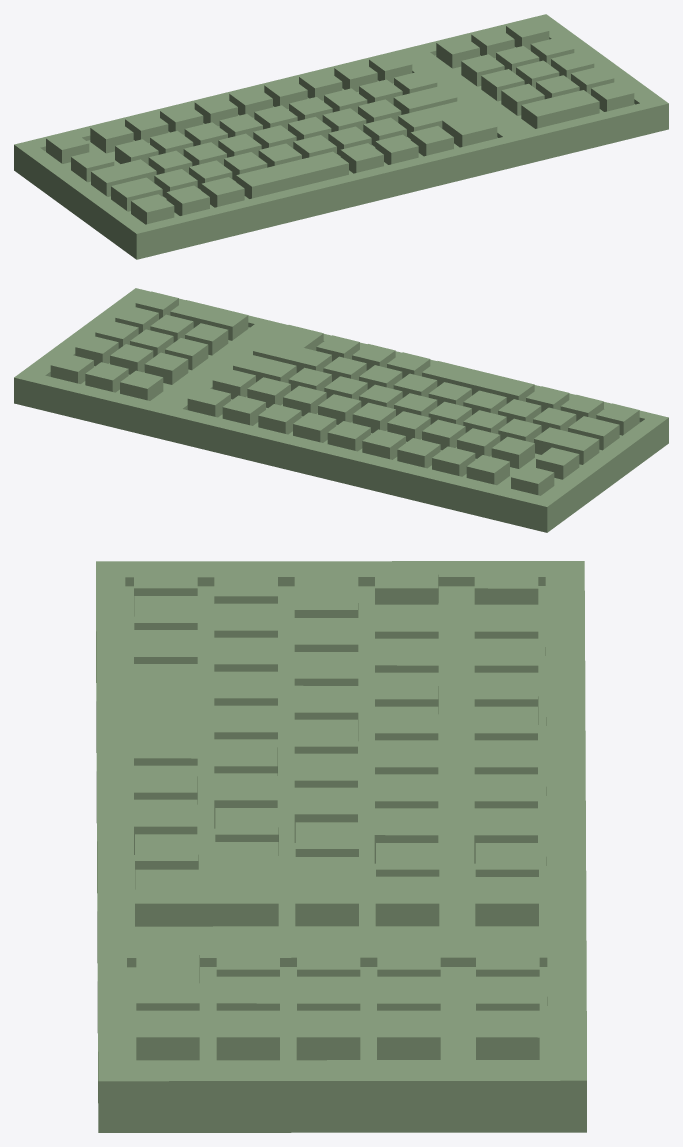
The model's file is Keyboard.fbx.
3 renders of one model, top to bottom at view 1: azimuth 30°, elevation 25°; view 2: azimuth 150°, elevation 25°; view 3: azimuth 270°, elevation 25°, orthographic. The views are drawn at different scales.
Parts seen in each view (by area): view 1: Keyboard; view 2: Keyboard; view 3: Keyboard.
Boxes of the visible parts, x1,y1,x2,y2 form: Keyboard: [14, 14, 668, 259]; Keyboard: [14, 288, 668, 532]; Keyboard: [96, 561, 586, 1132].
Size of the model in its own units: 49.63 by 3.16 by 19.81.
